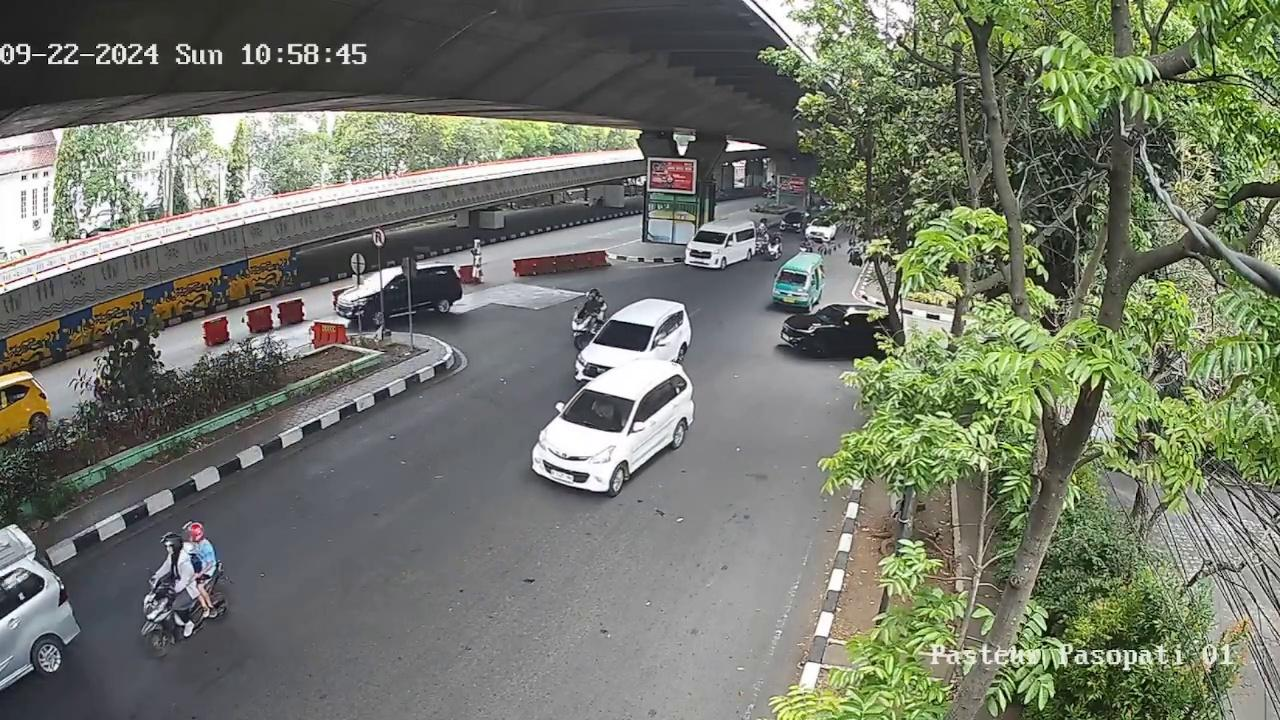tidak-pakai: (586, 397, 617, 423)
windshield: (564, 391, 639, 432), (595, 321, 653, 350), (776, 269, 808, 286)
